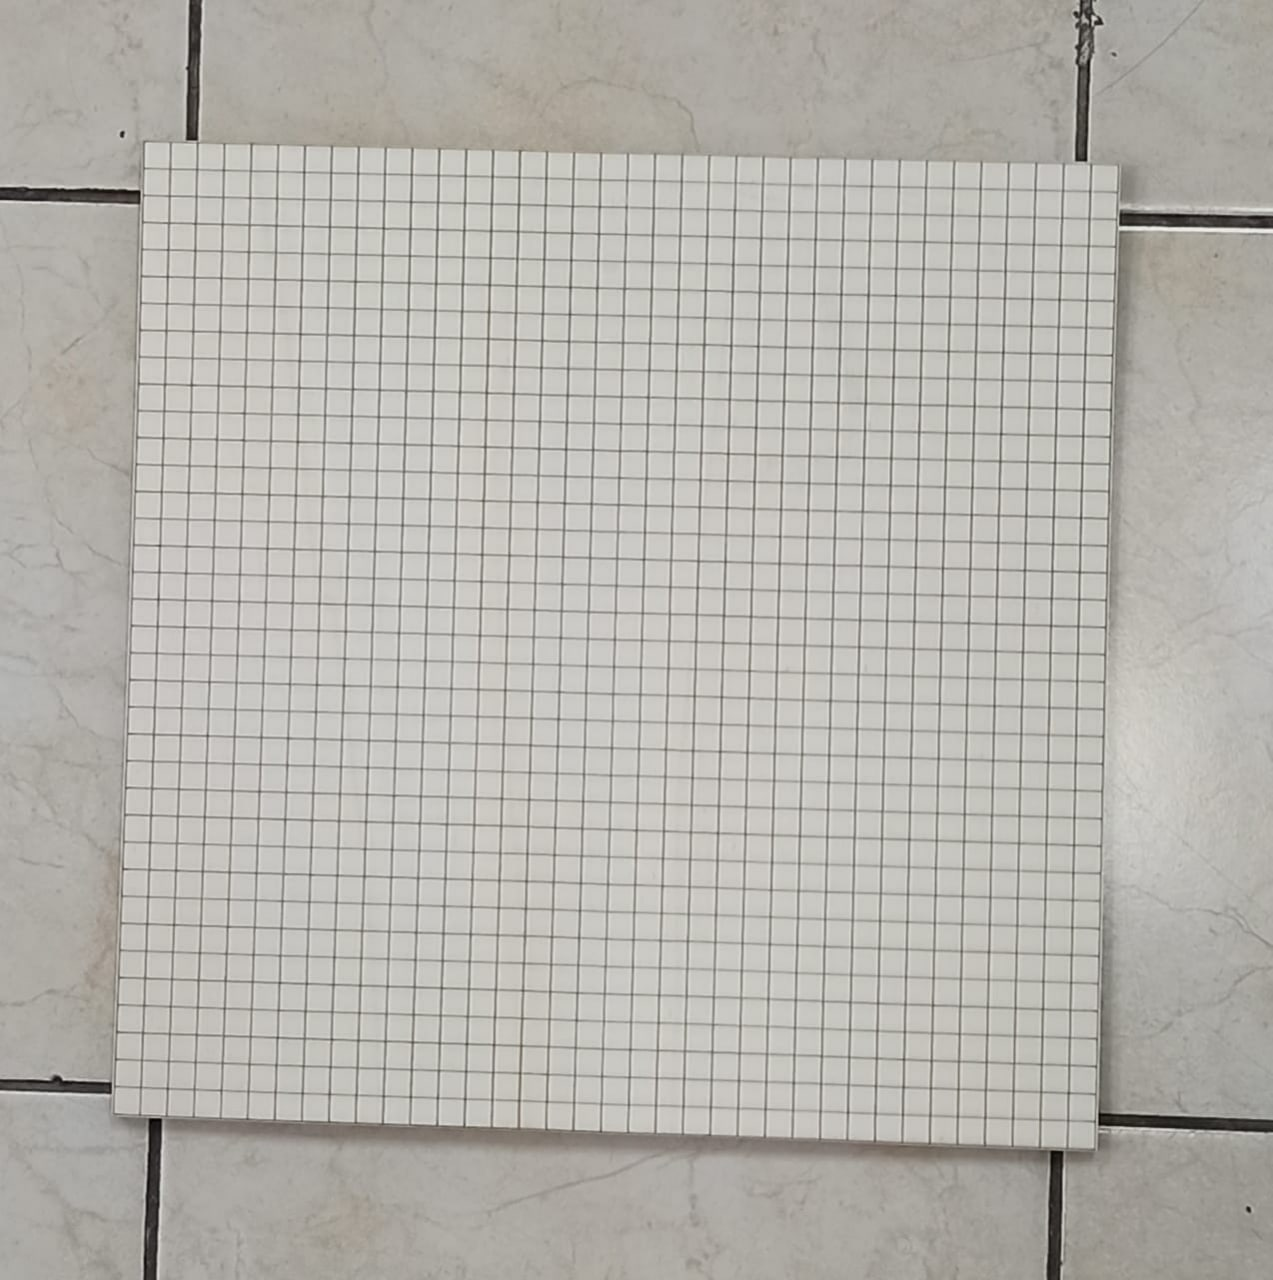grid: (112, 134, 1130, 1165)
